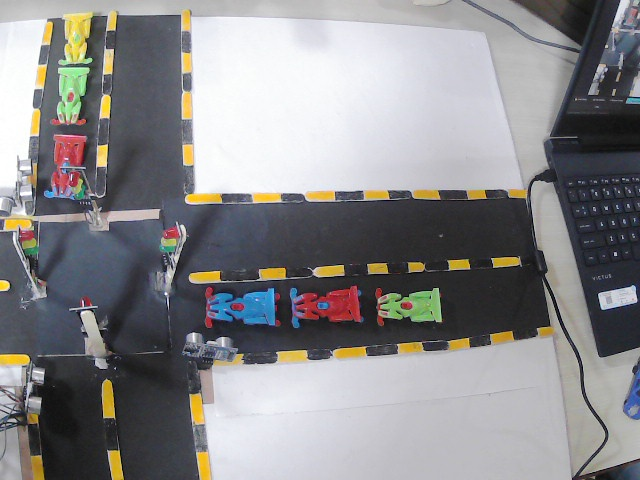car: (286, 283, 373, 338), (367, 284, 457, 336), (45, 123, 101, 202), (204, 285, 285, 334), (47, 72, 99, 133), (60, 12, 91, 62)
traffic_light: (57, 174, 88, 219), (11, 225, 42, 270), (154, 224, 174, 278), (70, 296, 93, 321)
uno_breadboard: (169, 335, 242, 373), (5, 146, 36, 219), (2, 368, 51, 413), (0, 148, 12, 229)
